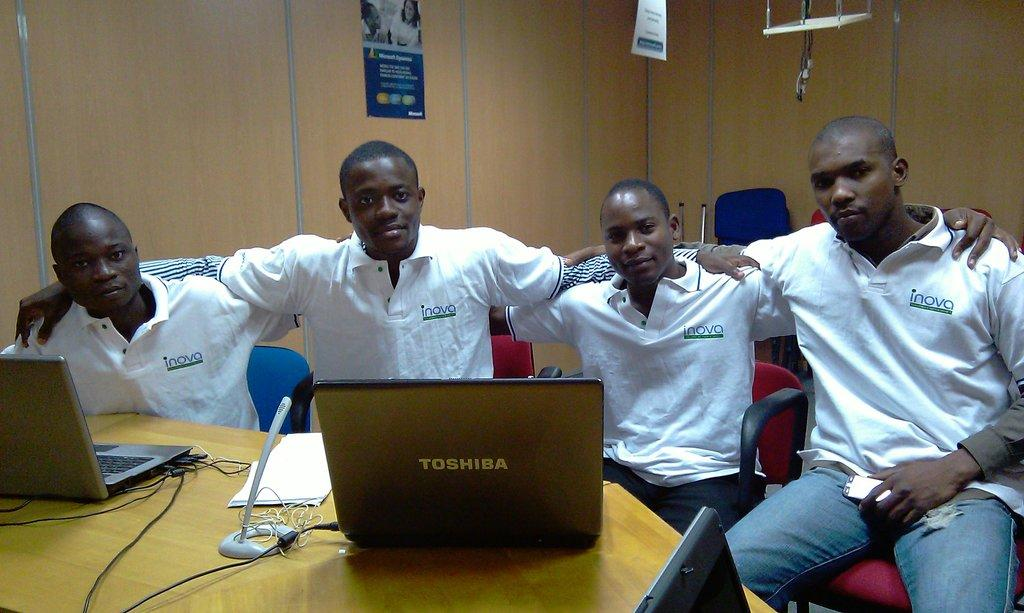Laptop: (305, 367, 630, 562), (0, 353, 195, 500)
